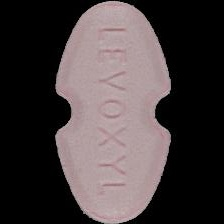60793-860: (0, 0, 224, 224)
